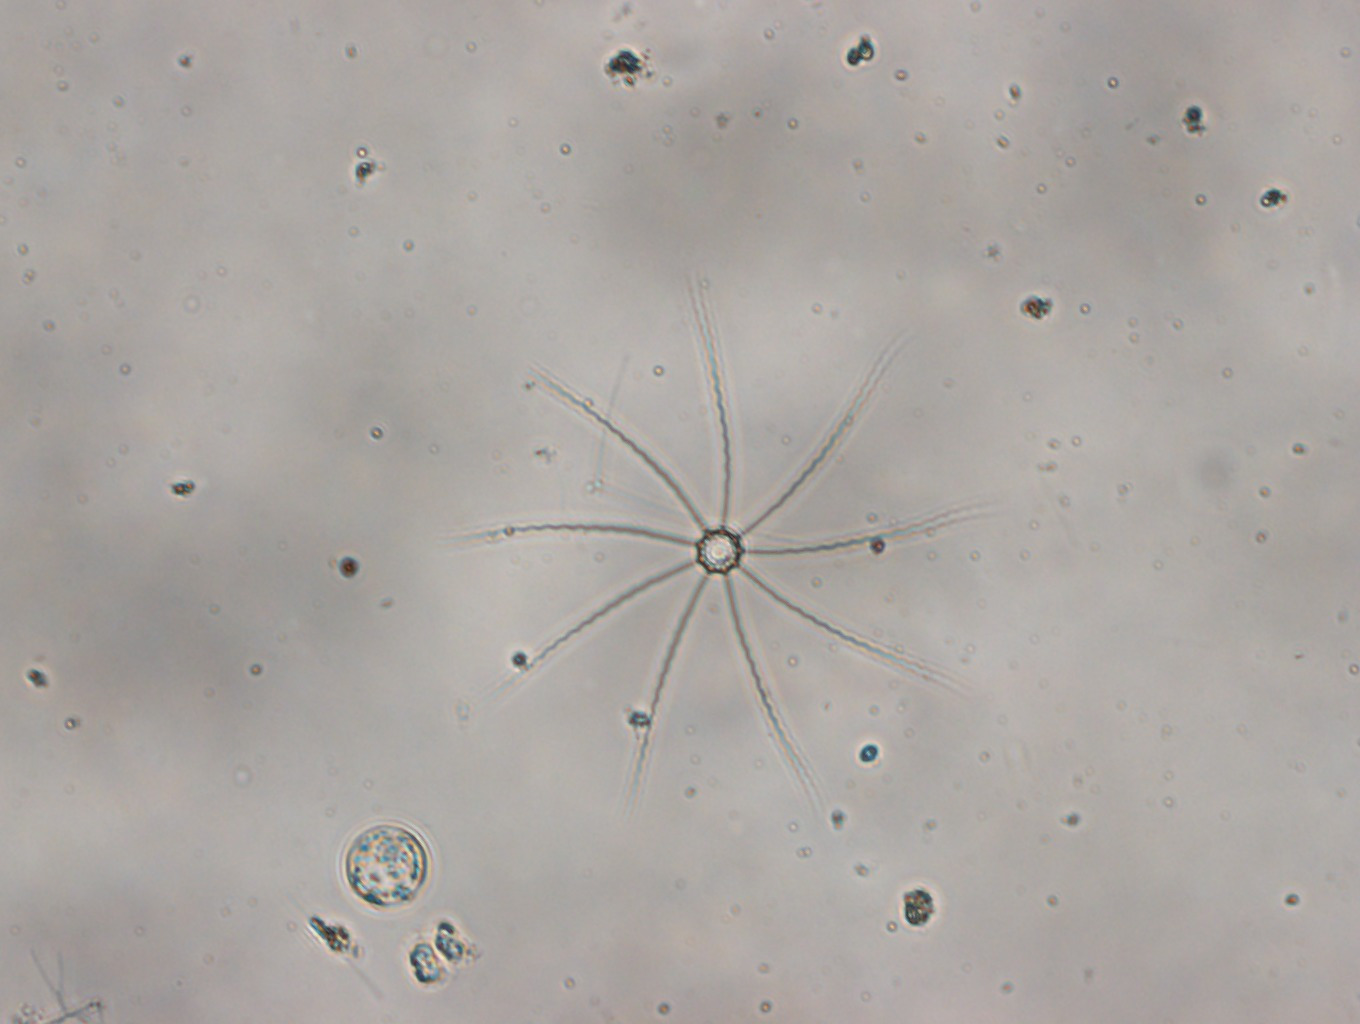bacteriastrum: (475, 268, 994, 806)
